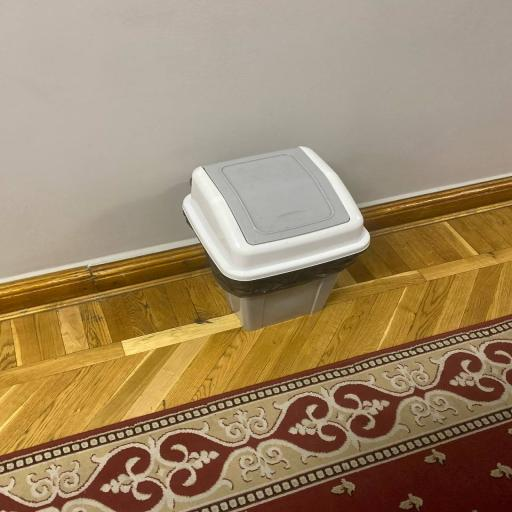traffic_light: (183, 147, 370, 330)
